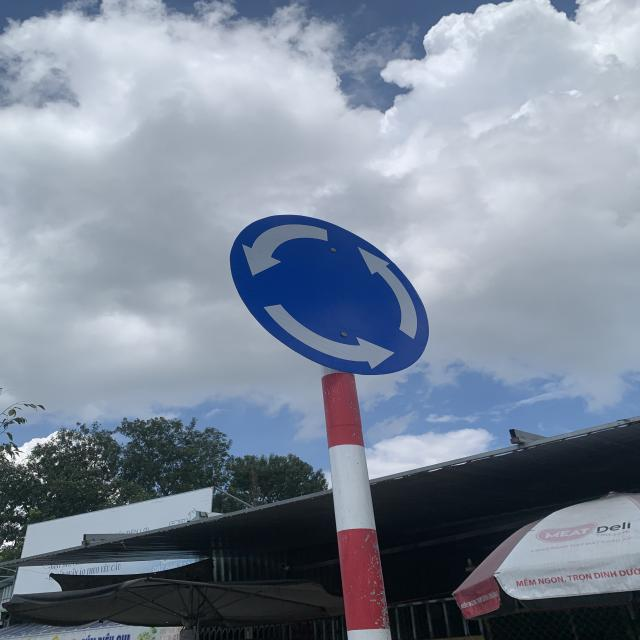Xe_Bus: (231, 207, 433, 378)
